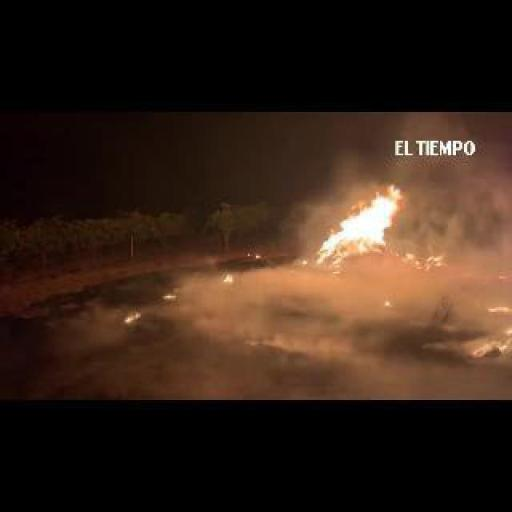smoke: (314, 184, 400, 270), (470, 328, 509, 354), (406, 250, 445, 268), (125, 312, 141, 322), (486, 304, 508, 310), (222, 274, 234, 283), (163, 293, 178, 299), (384, 299, 390, 307), (301, 260, 309, 266), (256, 252, 261, 258)
